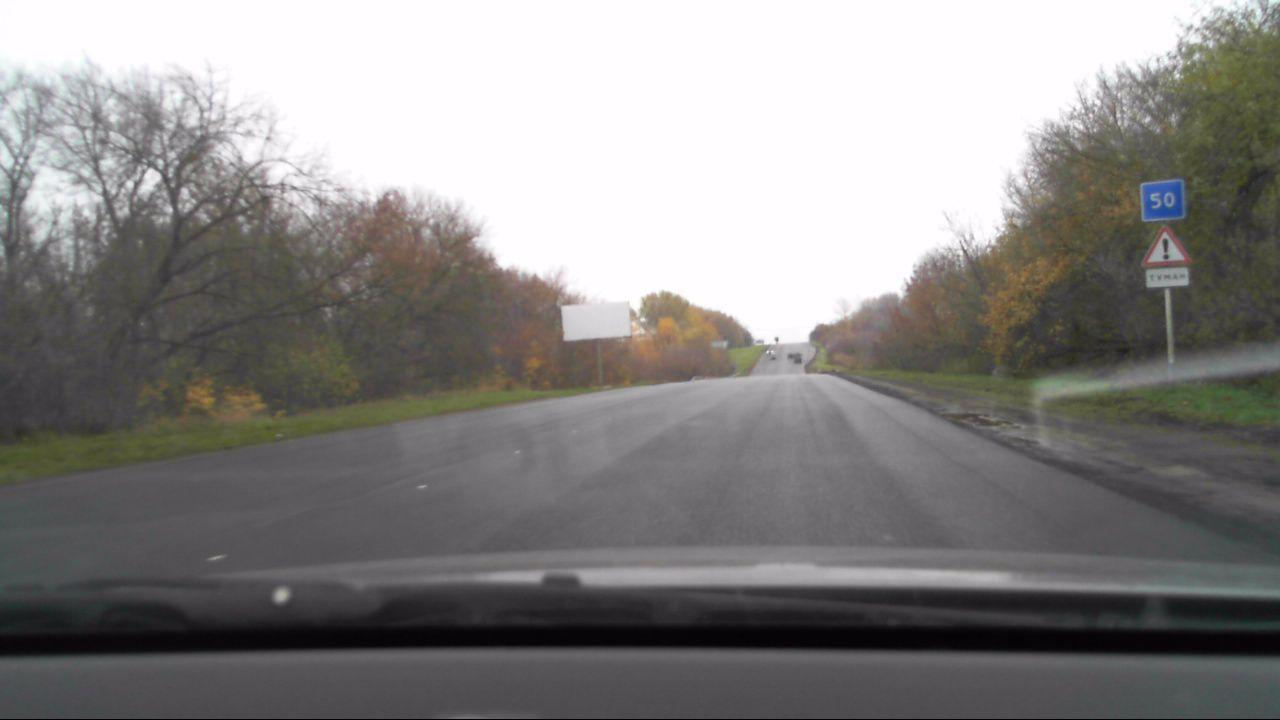1_33: (1142, 224, 1188, 264)
6_2: (1138, 178, 1184, 219)
8_16: (1144, 267, 1189, 289)
